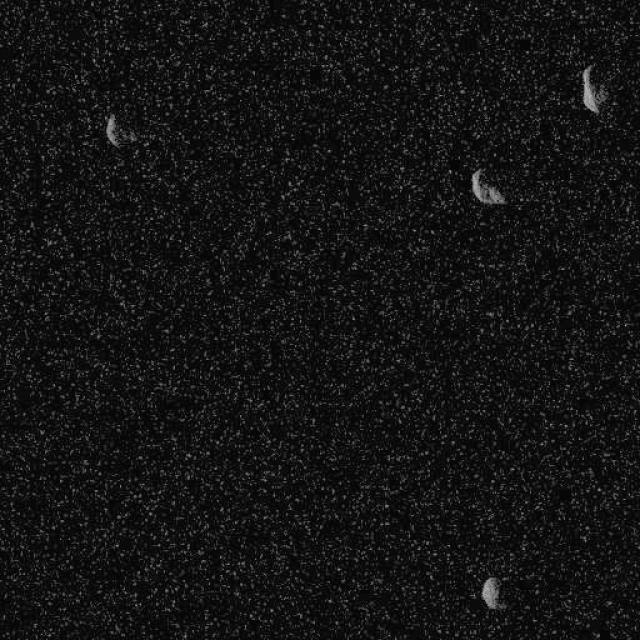D2: (470, 166, 506, 205), (104, 111, 136, 149), (580, 63, 600, 115), (480, 575, 504, 610)
